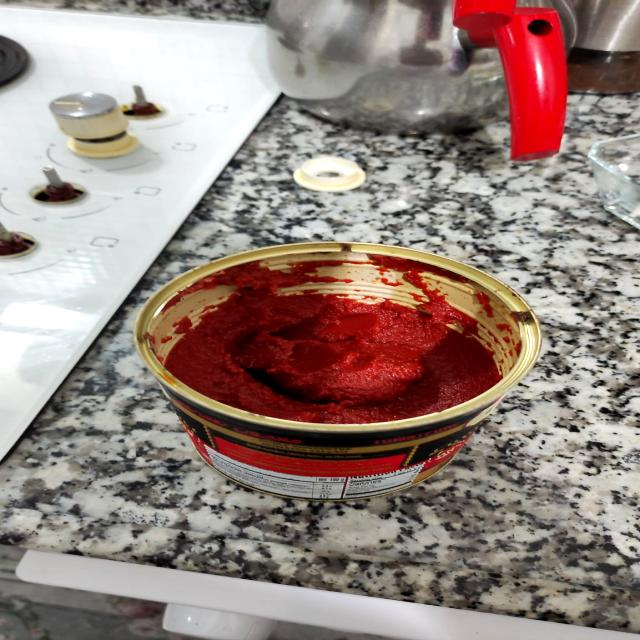tomato paste: (132, 236, 540, 508)
